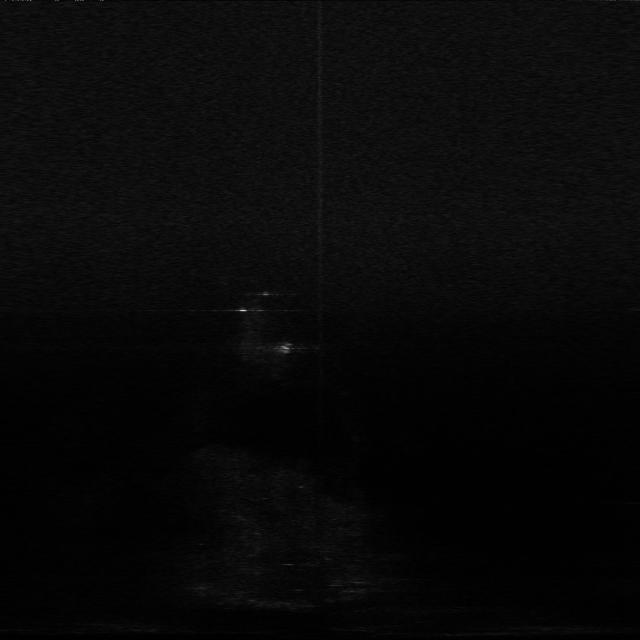rov: (276, 341, 296, 355)
